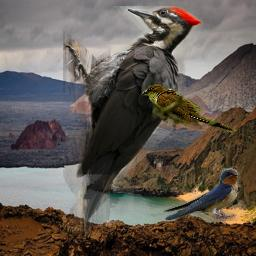Cuckoo: (141, 83, 237, 133)
Swallow: (150, 168, 242, 221)
Woodpecker: (63, 6, 203, 236)
